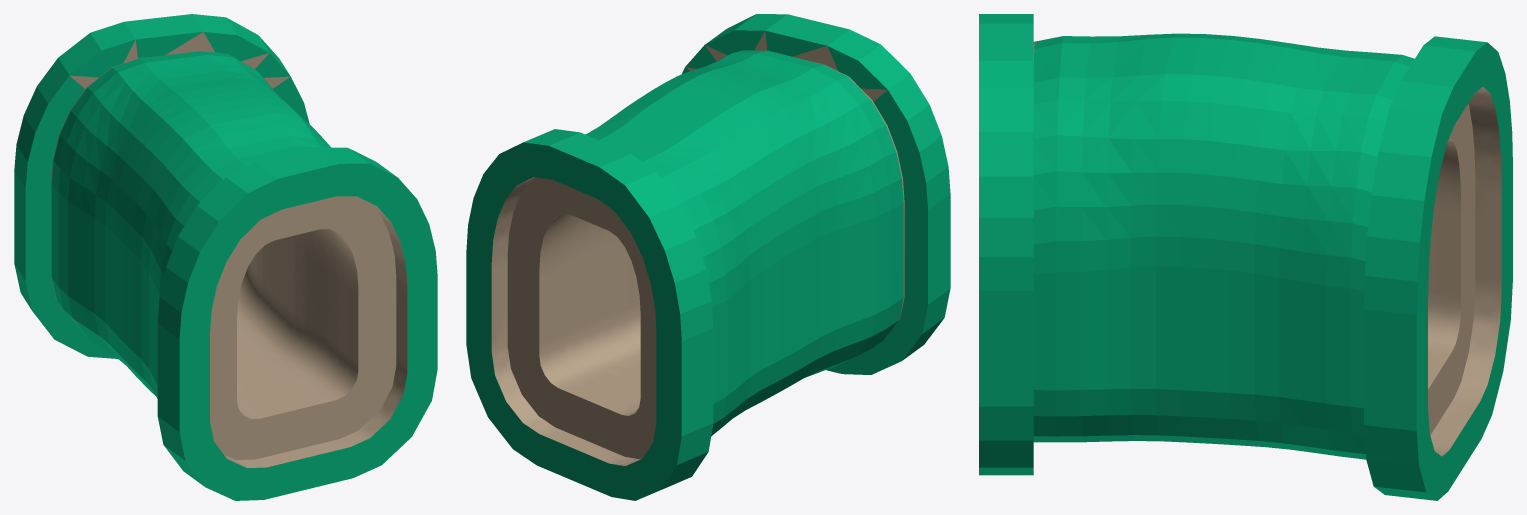
3 renders of one model, left to right at view 1: azimuth 30°, elevation 25°; view 2: azimuth 150°, elevation 25°; view 3: azimuth 270°, elevation 25°, orthographic. The views are drawn at different scales.
Parts seen in each view (by area): view 1: TT_Curve_15_A_LOD0; view 2: TT_Curve_15_A_LOD0; view 3: TT_Curve_15_A_LOD0.
Part boxes in pixels (x1,y1,x2,y2): TT_Curve_15_A_LOD0: [14, 14, 437, 500]; TT_Curve_15_A_LOD0: [466, 14, 950, 500]; TT_Curve_15_A_LOD0: [979, 14, 1512, 500].
Size of the model in its own units: 393 by 400 by 489.
